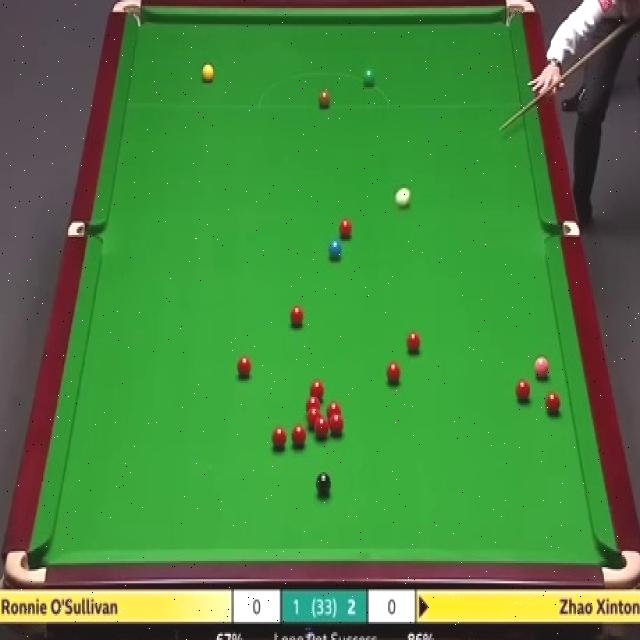black-ball: (316, 470, 332, 500)
blue-ball: (325, 237, 340, 259)
brown-ball: (318, 89, 331, 109)
green-ball: (362, 68, 376, 88)
pink-ball: (534, 354, 550, 380)
red-ball: (236, 354, 253, 382), (291, 423, 307, 451), (516, 379, 534, 403), (270, 425, 287, 450), (545, 392, 562, 415), (385, 362, 401, 386), (407, 330, 422, 355), (336, 219, 353, 241), (329, 414, 344, 438), (289, 306, 305, 328), (315, 416, 328, 439), (308, 380, 325, 397), (307, 409, 321, 428), (306, 395, 320, 412), (327, 404, 341, 417)
white-ball: (395, 185, 411, 209)
yellow-ball: (202, 64, 216, 85)
